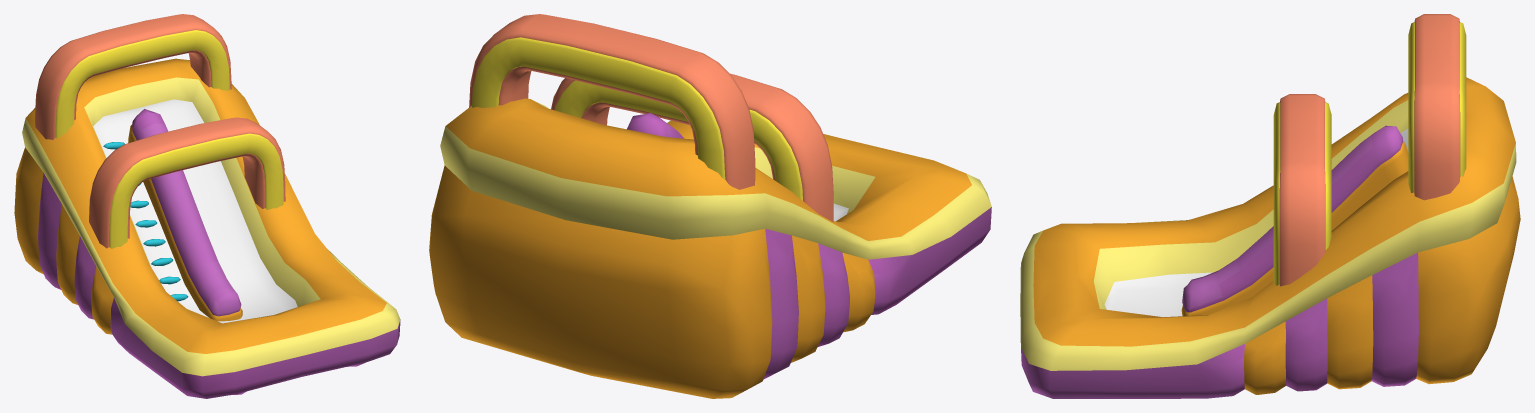
Rendered from attraction_15_001.gltf.
3 views of the same model, side by side, from view 1: azimuth 30°, elevation 25°; view 2: azimuth 150°, elevation 25°; view 3: azimuth 270°, elevation 25° (orthographic). The views are drawn at different scales.
Parts seen in each view (by area): view 1: attraction_15_001; view 2: attraction_15_001; view 3: attraction_15_001.
Boxes of the visible parts, x1,y1,x2,y2 form: attraction_15_001: (14,14,400,398); attraction_15_001: (429,14,991,398); attraction_15_001: (1020,14,1520,398).
Bounding box in the file's own units: 6.96 × 7.05 × 10.9.
1 material, 1 textured.
